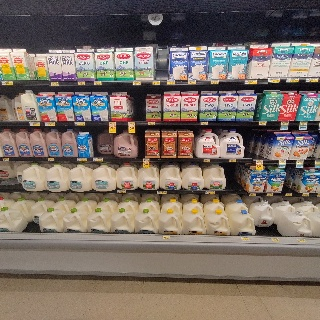All PRICE TAGS: (269, 78, 280, 83), (245, 80, 257, 84), (306, 78, 318, 82), (1, 81, 12, 85), (287, 78, 298, 82), (77, 157, 87, 161), (210, 79, 218, 84), (116, 189, 126, 193), (132, 81, 141, 85), (297, 238, 306, 242), (78, 81, 85, 86), (259, 121, 266, 126), (74, 122, 85, 125), (29, 122, 40, 125), (44, 122, 55, 125), (108, 121, 116, 125), (188, 80, 196, 84), (167, 80, 175, 84), (94, 81, 102, 85), (51, 82, 59, 86), (271, 238, 279, 242), (241, 237, 249, 241), (93, 158, 103, 161), (157, 190, 167, 193), (201, 121, 208, 125), (128, 121, 135, 125), (285, 193, 292, 197), (300, 121, 307, 125), (282, 121, 289, 125), (142, 158, 149, 162), (206, 191, 215, 194), (3, 157, 9, 161), (163, 235, 169, 239), (257, 160, 263, 164), (279, 160, 285, 164), (229, 159, 237, 162), (148, 122, 155, 125), (153, 81, 160, 84), (47, 158, 54, 161), (203, 159, 210, 162), (250, 193, 256, 196), (267, 193, 273, 196), (303, 193, 309, 196), (297, 161, 303, 164), (316, 161, 320, 164)
